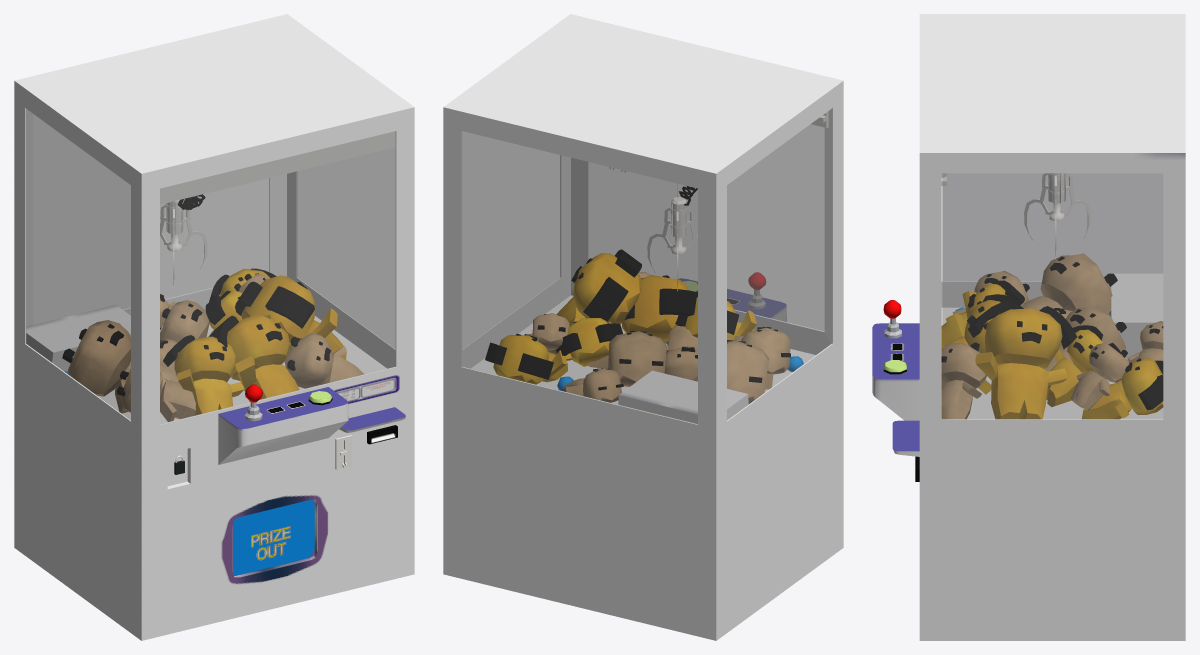
File: LC_3054_Doll_Drawing_Machine_LOD2.FBX
3 views of the same model, side by side, from view 1: azimuth 30°, elevation 25°; view 2: azimuth 150°, elevation 25°; view 3: azimuth 270°, elevation 25° (orthographic). The views are drawn at different scales.
Visible parts, largest first — view 1: LC_3054_Doll_Drawing_Machine_LOD2; view 2: LC_3054_Doll_Drawing_Machine_LOD2; view 3: LC_3054_Doll_Drawing_Machine_LOD2.
Part boxes in pixels (x1,y1,x2,y2): LC_3054_Doll_Drawing_Machine_LOD2: (14, 14, 414, 640); LC_3054_Doll_Drawing_Machine_LOD2: (443, 14, 843, 640); LC_3054_Doll_Drawing_Machine_LOD2: (872, 14, 1185, 640).
Bounding box in the file's own units: 104 × 170 × 98.91.
Materials: 2 (1 with a texture image).
